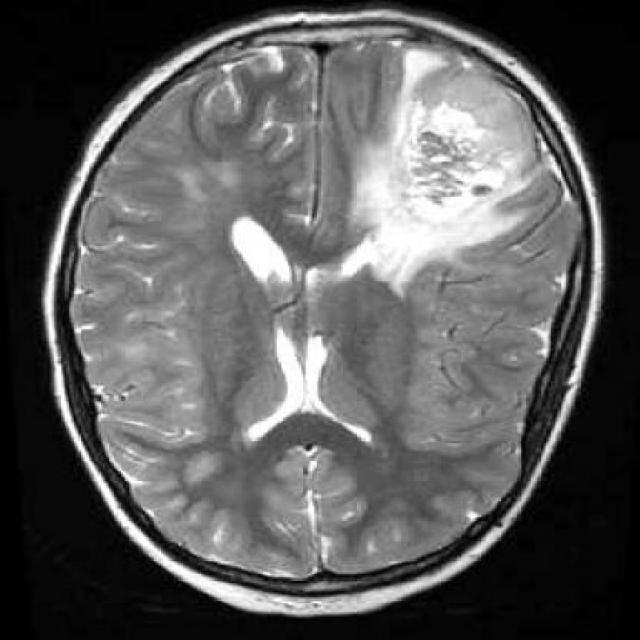Brain-Tumor: (353, 31, 562, 320)
